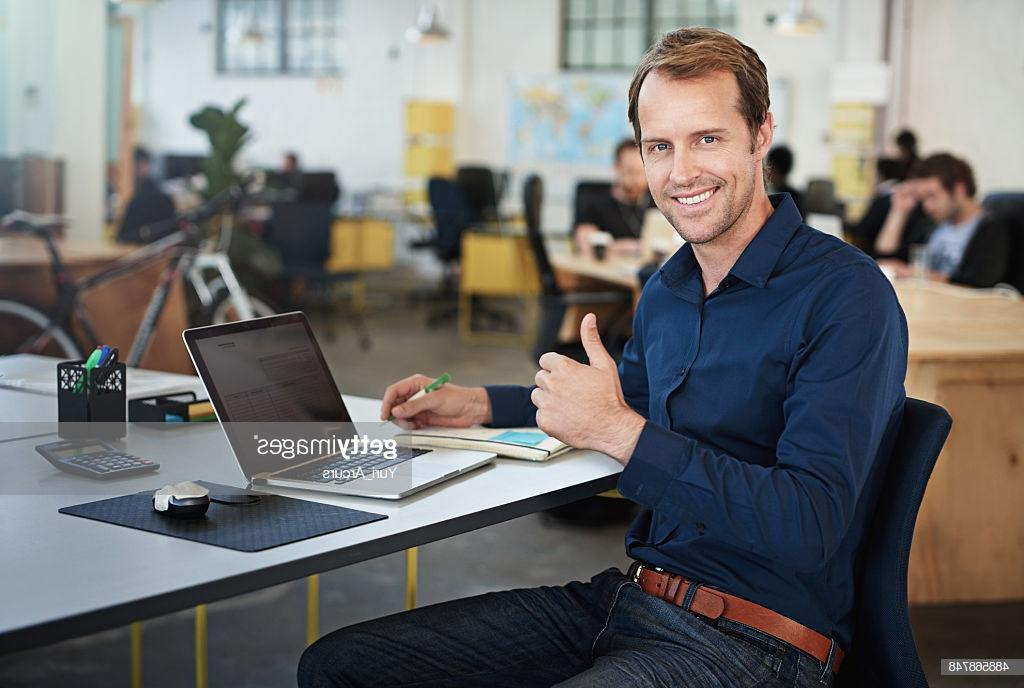thumbsup: (529, 310, 602, 451)
